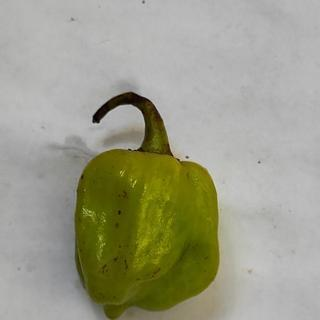Fly-bites: (114, 190, 136, 205), (111, 206, 128, 221), (76, 170, 89, 186), (150, 265, 166, 278), (111, 250, 121, 267), (111, 221, 124, 232), (122, 263, 132, 271), (102, 262, 109, 271)
